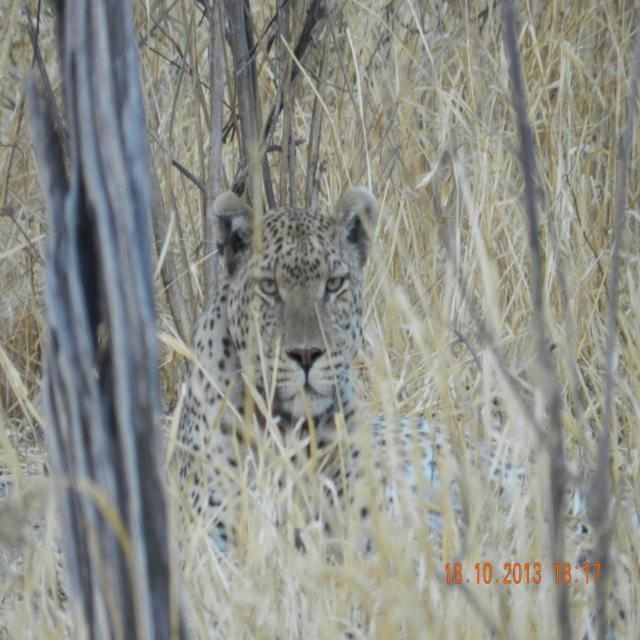Leopard: (157, 185, 589, 582)
